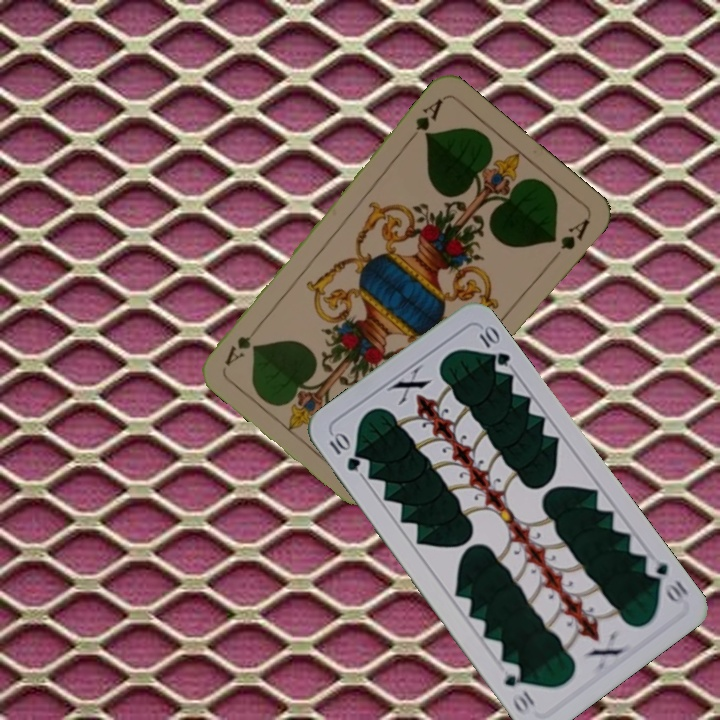G10: (640, 552, 691, 606), (325, 428, 363, 474)
GA: (405, 95, 446, 144)
